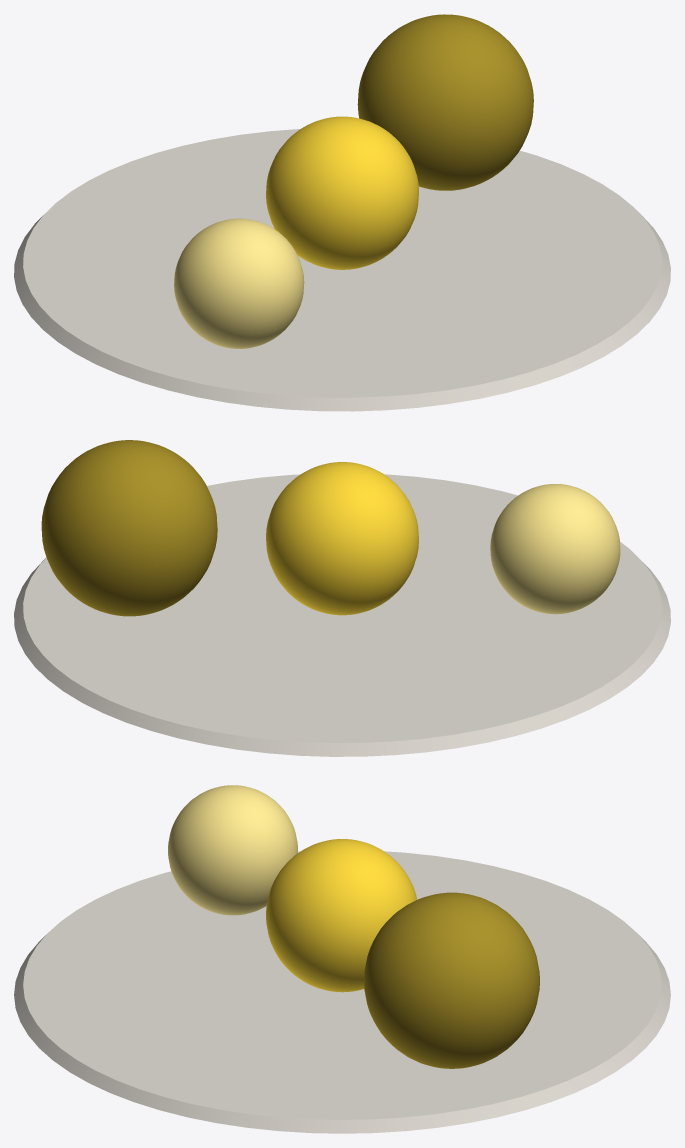
The model's file is yellow.glb.
3 renders of one model, top to bottom at view 1: azimuth 30°, elevation 25°; view 2: azimuth 150°, elevation 25°; view 3: azimuth 270°, elevation 25°, orthographic.
Parts seen in each view (by area): view 1: base, dark, normal, light; view 2: base, dark, normal, light; view 3: base, dark, normal, light.
Part boxes in pixels (left/top/right/bottom): base: left=14, top=129, right=670, bottom=411; dark: left=357, top=14, right=533, bottom=190; normal: left=266, top=116, right=418, bottom=269; light: left=174, top=218, right=304, bottom=348; base: left=14, top=474, right=670, bottom=756; dark: left=41, top=440, right=217, bottom=616; normal: left=266, top=462, right=418, bottom=615; light: left=490, top=484, right=620, bottom=614; base: left=14, top=851, right=670, bottom=1133; dark: left=364, top=892, right=539, bottom=1068; normal: left=266, top=839, right=416, bottom=992; light: left=168, top=785, right=297, bottom=915.
Size of the model in its own units: 3.6 by 1.03 by 3.6.
